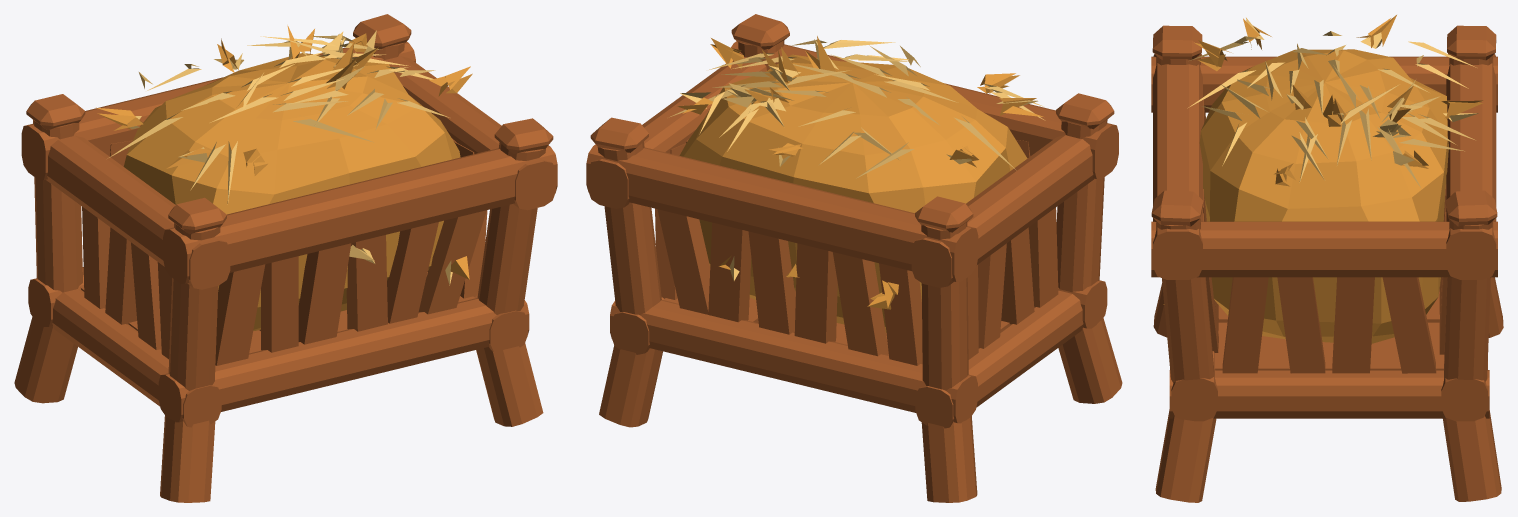
The model's file is hay-full.glb.
3 views of the same model, side by side, from view 1: azimuth 30°, elevation 25°; view 2: azimuth 150°, elevation 25°; view 3: azimuth 270°, elevation 25° (orthographic). The views are drawn at different scales.
Parts seen in each view (by area): view 1: frame, hay, slats, straw_light, straw_gold; view 2: frame, hay, slats, straw_light, straw_gold; view 3: frame, hay, slats, straw_light, straw_gold.
Part boxes in pixels (<box>): frame: <box>14,14,557,502</box>; hay: <box>123,53,460,330</box>; slats: <box>82,138,487,365</box>; straw_light: <box>107,30,452,285</box>; straw_gold: <box>96,25,472,279</box>; frame: <box>586,14,1122,502</box>; hay: <box>679,54,1027,332</box>; slats: <box>655,139,1058,365</box>; straw_light: <box>669,39,1045,280</box>; straw_gold: <box>677,36,1043,309</box>; frame: <box>1151,25,1503,502</box>; hay: <box>1199,49,1448,343</box>; slats: <box>1203,99,1447,373</box>; straw_light: <box>1187,17,1478,188</box>; straw_gold: <box>1163,15,1483,304</box>.
Size of the model in its own units: 1.37 by 1.2 by 1.06.
